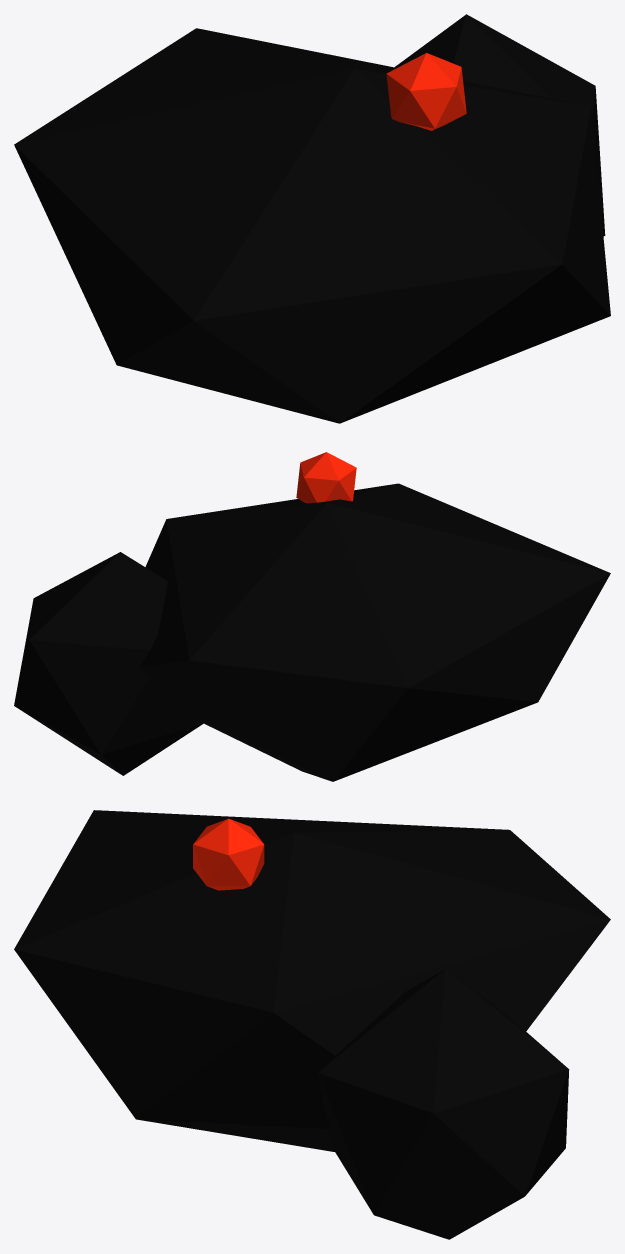
The model's file is coal_pile.obj.
The picture shows the model from 3 angles, top to bottom: view 1: azimuth 30°, elevation 25°; view 2: azimuth 150°, elevation 25°; view 3: azimuth 270°, elevation 25°; orthographic projection. The views are drawn at different scales.
Visible parts, largest first — view 1: coal_pile; view 2: coal_pile; view 3: coal_pile.
Boxes of the visible parts, box(x1,y1,x2,y2) form: coal_pile: box(14, 14, 610, 423); coal_pile: box(14, 452, 610, 781); coal_pile: box(14, 810, 610, 1239).
Size of the model in its own units: 0.898 by 0.5587 by 0.8566.
